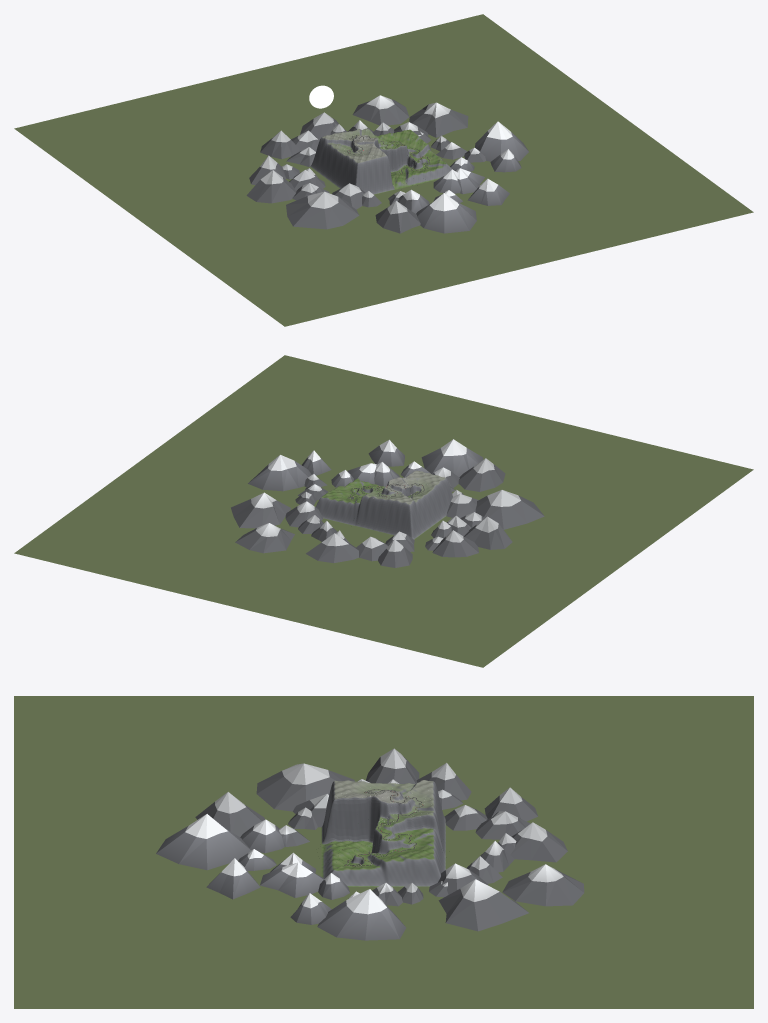
File: granite.glb
3 views of the same model, one above another, from view 1: azimuth 30°, elevation 25°; view 2: azimuth 150°, elevation 25°; view 3: azimuth 270°, elevation 25° (orthographic). The views are drawn at different scales.
Parts seen in each view (by area): view 1: Sea, Solid_063, Solid_026, Land_015, Solid_009, Solid_008, Solid_062, Solid_061, Solid_014, Solid_048, Solid_027, Solid_012 (+6 smaller); view 2: Sea, Solid_063, Solid_026, Solid_014, Solid_009, Solid_061, Land_011, Solid_027, Land_015, Solid_008, Solid_064, Solid_046 (+5 smaller); view 3: Sea, Solid_026, Solid_009, Solid_014, Solid_062, Solid_046, Solid_061, Solid_008, Solid_063, Land_006, Land_015, Solid_047 (+13 smaller).
Part boxes in pixels (x1,y1,x2,y2): Sea: (14,14,753,326); Solid_063: (246,152,352,229); Solid_026: (376,95,468,143); Land_015: (330,145,394,194); Solid_009: (424,167,509,230); Solid_008: (411,169,469,233); Solid_062: (324,154,368,229); Solid_061: (359,151,420,233); Solid_014: (422,121,528,161); Solid_048: (260,130,352,166); Solid_027: (348,95,392,141); Solid_012: (427,149,521,172); Sea: (14,355,753,667); Solid_063: (422,488,544,549); Solid_026: (231,492,350,549); Solid_014: (248,454,327,499); Solid_009: (347,439,441,486); Solid_061: (418,458,505,496); Land_011: (355,491,393,534); Solid_027: (250,497,353,553); Land_015: (405,470,452,524); Solid_008: (413,439,483,477); Solid_064: (416,492,478,557); Solid_046: (306,496,386,563); Sea: (14,696,753,1008); Solid_026: (409,846,583,931); Solid_009: (156,814,347,899); Solid_014: (336,862,406,940); Solid_062: (256,763,371,827); Solid_046: (418,803,567,862); Solid_061: (195,791,370,845); Solid_008: (156,814,348,863); Solid_063: (283,748,419,795); Land_006: (388,833,445,886); Land_015: (321,780,384,843); Solid_047: (416,787,537,838).
Size of the model in its own units: 18000 by 1283 by 18000.
